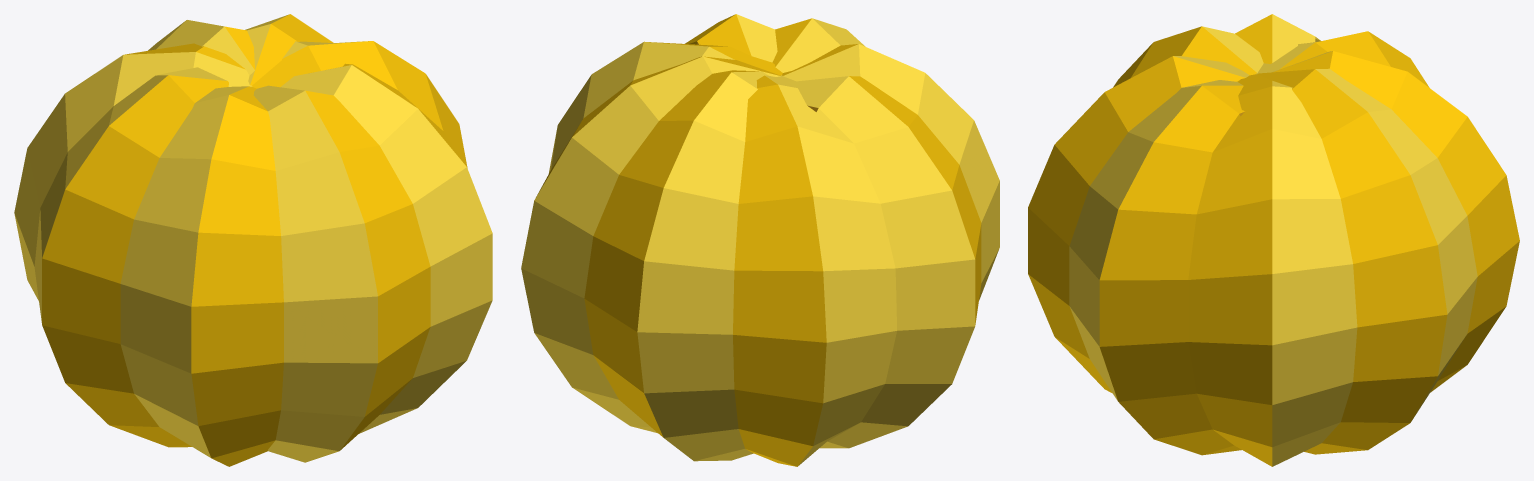
The model's file is fruit-type--002.obj.
The picture shows the model from 3 angles, left to right: view 1: azimuth 30°, elevation 25°; view 2: azimuth 150°, elevation 25°; view 3: azimuth 270°, elevation 25°; orthographic projection.
Visible parts, largest first — view 1: fruit-type--002; view 2: fruit-type--002; view 3: fruit-type--002.
Boxes of the visible parts, x1,y1,x2,y2 form: fruit-type--002: [14, 14, 492, 466]; fruit-type--002: [521, 14, 999, 466]; fruit-type--002: [1028, 14, 1519, 466].
Size of the model in its own units: 0.3999 by 0.3507 by 0.3999.
